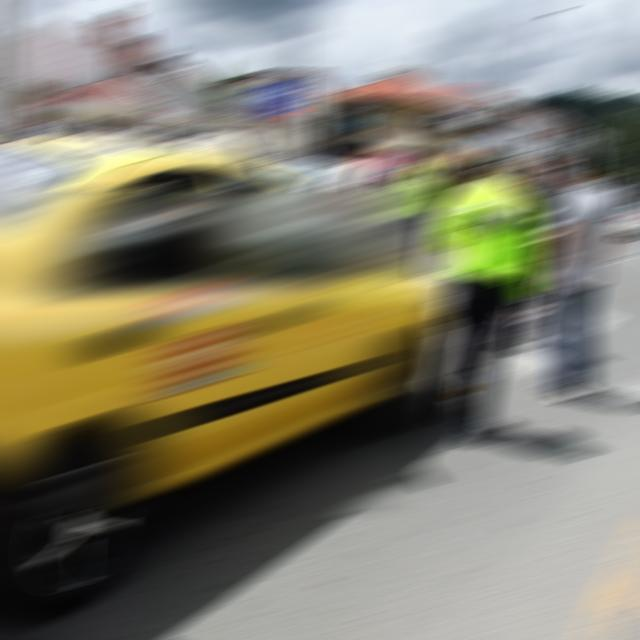Taxi: (0, 188, 427, 512)
